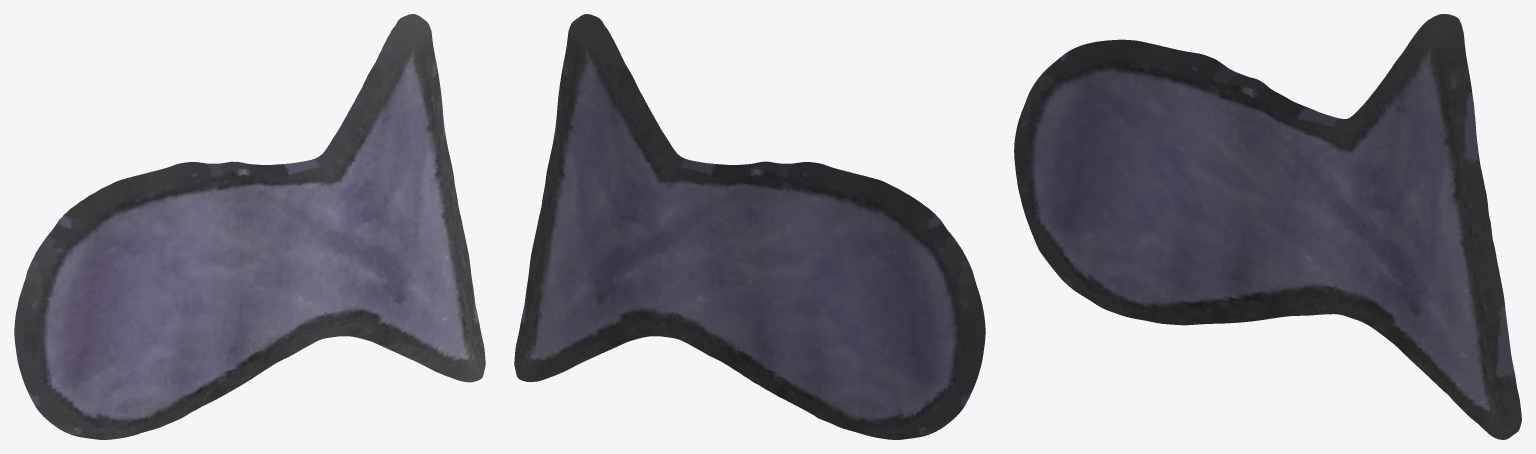
File: fish.gltf
The picture shows the model from 3 angles, left to right: view 1: azimuth 30°, elevation 25°; view 2: azimuth 150°, elevation 25°; view 3: azimuth 330°, elevation 25°; orthographic projection. The views are drawn at different scales.
Bounding box in the file's own units: 416 × 319 × 20.09.
